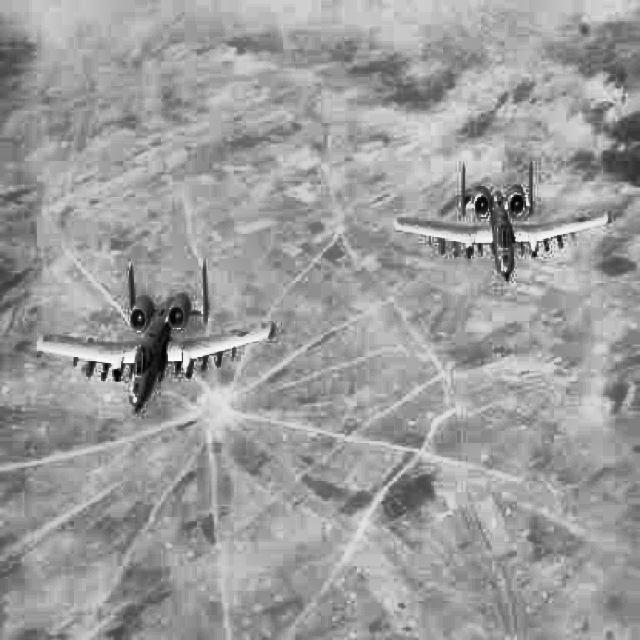A10: (36, 262, 276, 412), (392, 159, 611, 281)
